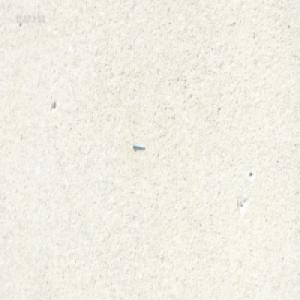Nail: (131, 141, 144, 149)
